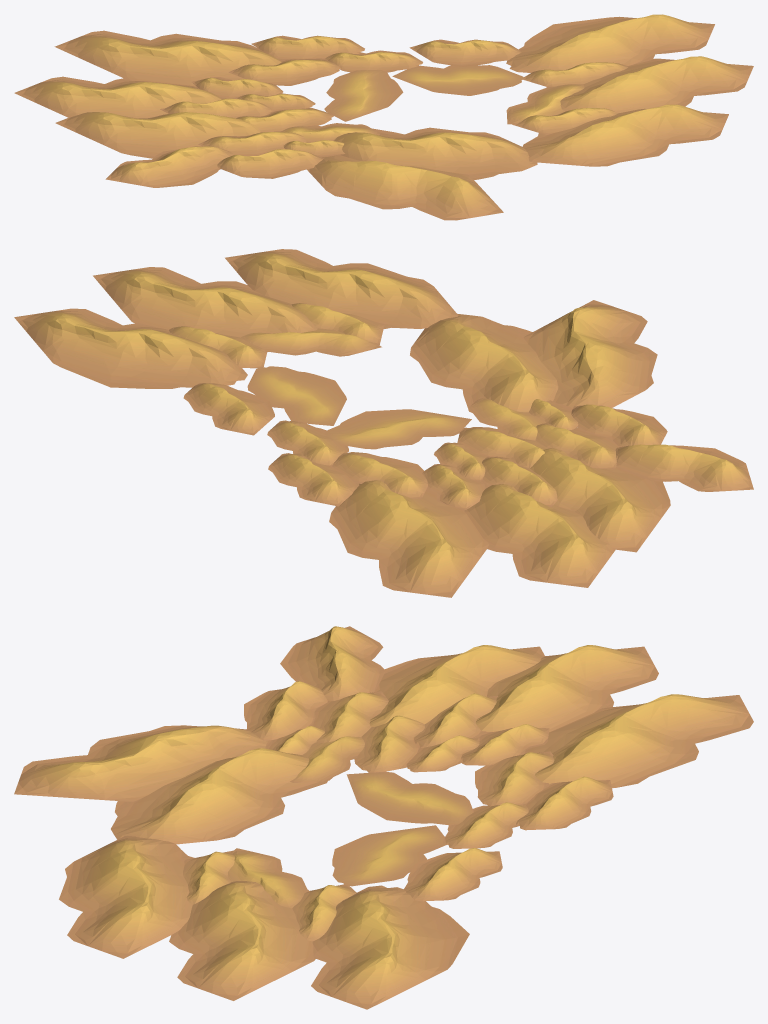
3 views of the same model, one above another, from view 1: azimuth 30°, elevation 25°; view 2: azimuth 150°, elevation 25°; view 3: azimuth 270°, elevation 25° (orthographic). The views are drawn at different scales.
Visible parts, largest first — view 1: SandduneLow1 (18), SandduneLow1 (16), SandduneLow1 (6), SandduneLow1 (19), SandduneLow1 (15), SandduneLow1 (17), SandduneLow1 (14), SandduneLow1 (7), SandduneLow1 (9), SandduneLow1 (23), SandduneLow1 (24), SandduneLow1 (25) (+14 smaller); view 2: SandduneLow1 (6), SandduneLow1 (18), SandduneLow1 (16), SandduneLow1 (19), SandduneLow1 (15), SandduneLow1 (17), SandduneLow1 (7), SandduneLow1 (14), SandduneLow1 (9), SandduneLow1 (23), SandduneLow1 (24), SandduneLow1 (25) (+14 smaller); view 3: SandduneLow1 (18), SandduneLow1 (6), SandduneLow1 (16), SandduneLow1 (15), SandduneLow1 (17), SandduneLow1 (19), SandduneLow1 (7), SandduneLow1 (14), SandduneLow1 (9), SandduneLow1 (23), SandduneLow1 (24), SandduneLow1 (25) (+14 smaller).
Part boxes in pixels (left/top/right/bottom): SandduneLow1 (18): left=506, top=14, right=714, bottom=72; SandduneLow1 (16): left=522, top=104, right=728, bottom=166; SandduneLow1 (6): left=54, top=30, right=281, bottom=86; SandduneLow1 (19): left=307, top=154, right=503, bottom=220; SandduneLow1 (15): left=333, top=127, right=537, bottom=179; SandduneLow1 (17): left=560, top=56, right=753, bottom=113; SandduneLow1 (14): left=55, top=112, right=260, bottom=158; SandduneLow1 (7): left=14, top=76, right=221, bottom=118; SandduneLow1 (9): left=105, top=146, right=234, bottom=187; SandduneLow1 (23): left=392, top=64, right=523, bottom=95; SandduneLow1 (24): left=324, top=70, right=403, bottom=121; SandduneLow1 (25): left=409, top=39, right=521, bottom=66; SandduneLow1 (6): left=329, top=480, right=488, bottom=597; SandduneLow1 (18): left=14, top=308, right=247, bottom=388; SandduneLow1 (16): left=225, top=249, right=458, bottom=328; SandduneLow1 (19): left=523, top=300, right=657, bottom=407; SandduneLow1 (15): left=410, top=314, right=558, bottom=412; SandduneLow1 (17): left=93, top=267, right=317, bottom=337; SandduneLow1 (7): left=464, top=484, right=615, bottom=587; SandduneLow1 (14): left=530, top=448, right=670, bottom=552; SandduneLow1 (9): left=615, top=444, right=753, bottom=491; SandduneLow1 (23): left=247, top=366, right=346, bottom=425; SandduneLow1 (24): left=324, top=409, right=471, bottom=449; SandduneLow1 (25): left=183, top=383, right=274, bottom=435; SandduneLow1 (18): left=311, top=885, right=469, bottom=1009; SandduneLow1 (6): left=524, top=694, right=753, bottom=788; SandduneLow1 (16): left=59, top=835, right=194, bottom=958; SandduneLow1 (15): left=111, top=748, right=327, bottom=844; SandduneLow1 (17): left=169, top=881, right=315, bottom=1000; SandduneLow1 (19): left=14, top=725, right=267, bottom=801; SandduneLow1 (7): left=476, top=645, right=658, bottom=732; SandduneLow1 (14): left=369, top=645, right=544, bottom=726; SandduneLow1 (9): left=280, top=626, right=385, bottom=701; SandduneLow1 (23): left=332, top=825, right=446, bottom=886; SandduneLow1 (24): left=346, top=771, right=473, bottom=825; SandduneLow1 (25): left=404, top=848, right=502, bottom=901.
Bounding box in the file's own units: 200 × 6.94 × 163.
1 material, 1 textured.
